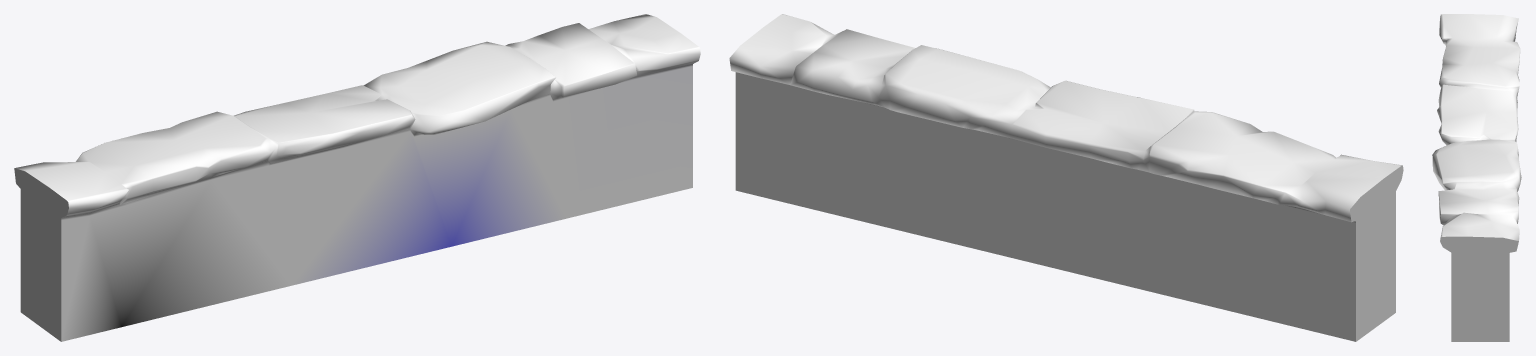
The model's file is SM_Throne_Exterior_CoverB_3.fbx.
3 renders of one model, left to right at view 1: azimuth 30°, elevation 25°; view 2: azimuth 150°, elevation 25°; view 3: azimuth 270°, elevation 25°, orthographic. The views are drawn at different scales.
Parts seen in each view (by area): view 1: SM_Throne_Exterior_CoverB_3; view 2: SM_Throne_Exterior_CoverB_3; view 3: SM_Throne_Exterior_CoverB_3.
Part boxes in pixels (x1=…): SM_Throne_Exterior_CoverB_3: x1=14, y1=14, x2=700, y2=341; SM_Throne_Exterior_CoverB_3: x1=729, y1=14, x2=1403, y2=341; SM_Throne_Exterior_CoverB_3: x1=1432, y1=14, x2=1521, y2=341.
Size of the model in its own units: 6.4 by 1.49 by 1.08.
